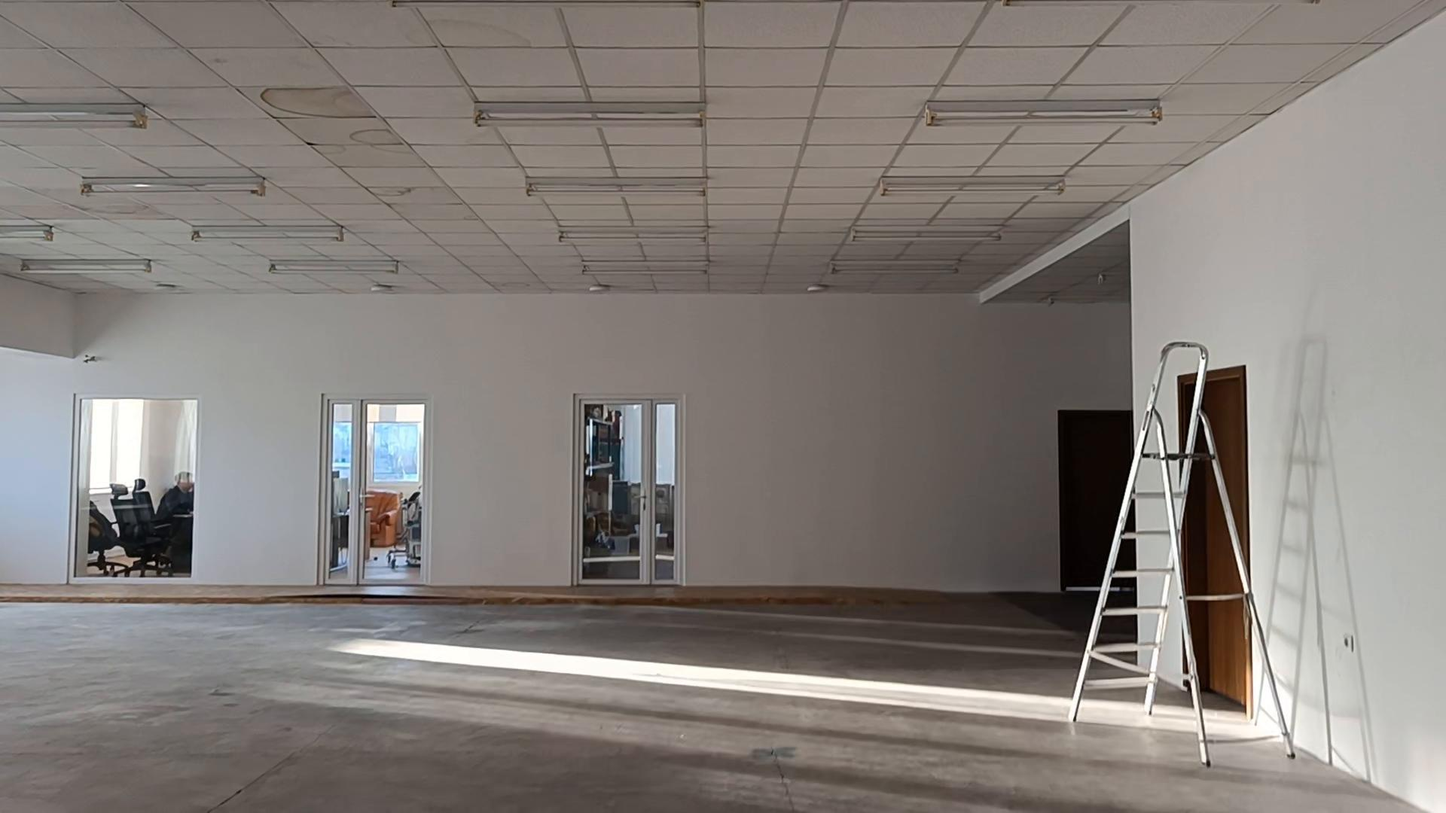ceiling: (0, 0, 1445, 292)
floor: (0, 596, 1417, 812)
wall: (0, 20, 1442, 808)
